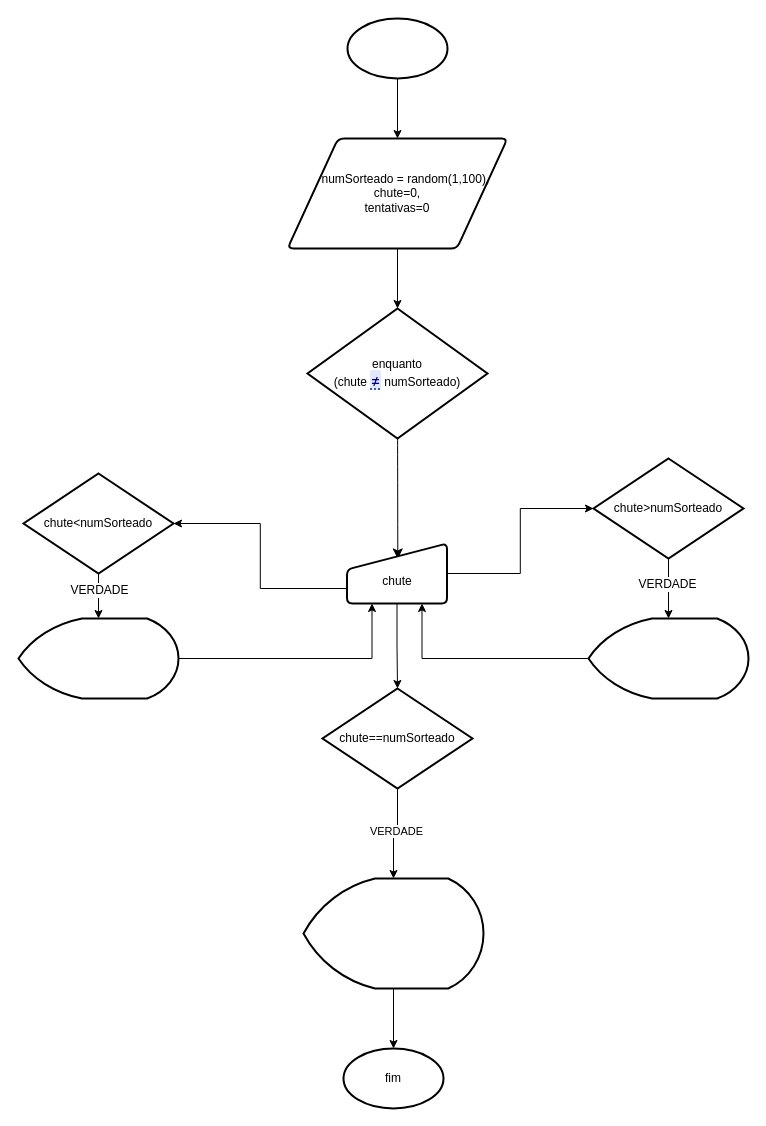
Some shapes in this 766 by 1126 pixel diagram are drawn without their labels. Each missing label, with the centre of its shape:
"Parabens! voce acertou o numero sorteado", "o numero sorteado foi, numSorteado: point (393, 933)
inicio: point (397, 48)
O numero sorteado é MAIOR que o chute: point (98, 658)
O numero sorteado é MENOR que o chute: point (668, 658)
